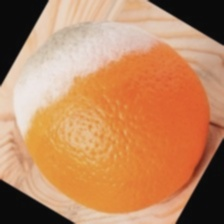orange: (0, 24, 199, 196)
